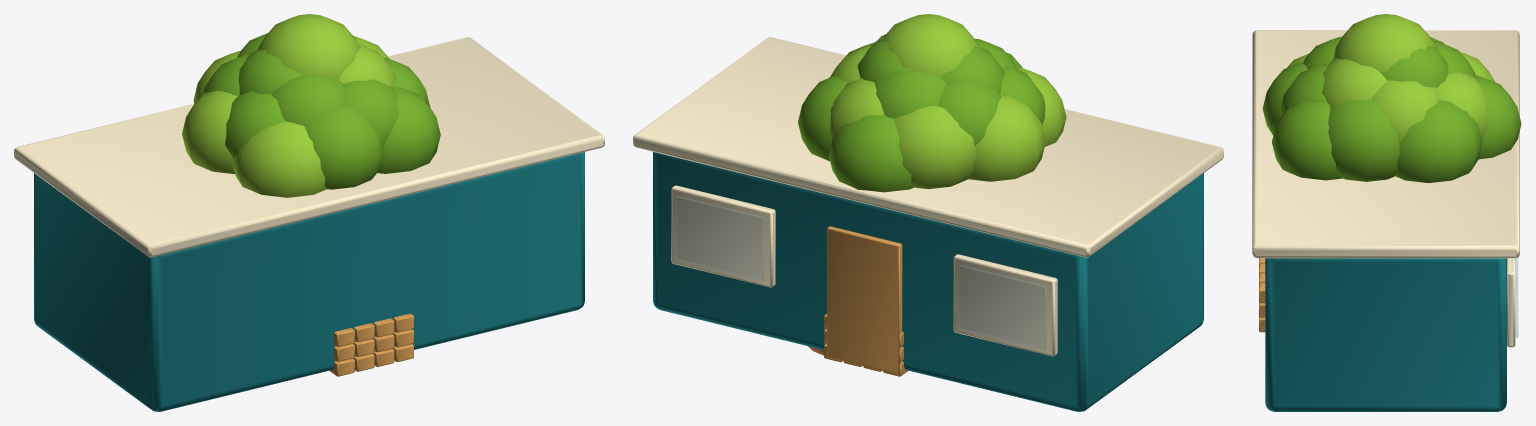
The model's file is environment.glb.
The picture shows the model from 3 angles, left to right: view 1: azimuth 30°, elevation 25°; view 2: azimuth 150°, elevation 25°; view 3: azimuth 270°, elevation 25°; orthographic projection. The views are drawn at different scales.
Parts seen in each view (by area): view 1: site office, roof, foliage lobe.001, foliage lobe, timber; view 2: site office, roof, foliage lobe, foliage lobe.001, window, door, timber; view 3: site office, roof, foliage lobe.001, foliage lobe, timber.
Part boxes in pixels (bbox=[...]): site office: bbox=[34, 152, 584, 411]; roof: bbox=[14, 37, 604, 257]; foliage lobe.001: bbox=[203, 33, 440, 189]; foliage lobe: bbox=[182, 14, 395, 197]; timber: bbox=[329, 313, 413, 376]; site office: bbox=[653, 152, 1203, 411]; roof: bbox=[633, 37, 1223, 356]; foliage lobe: bbox=[829, 14, 1066, 189]; foliage lobe.001: bbox=[798, 38, 1045, 192]; window: bbox=[676, 196, 1046, 349]; door: bbox=[827, 226, 902, 374]; timber: bbox=[824, 314, 908, 376]; site office: bbox=[1265, 258, 1506, 411]; roof: bbox=[1252, 30, 1519, 347]; foliage lobe.001: bbox=[1262, 36, 1521, 182]; foliage lobe: bbox=[1287, 14, 1494, 142]; timber: bbox=[1259, 258, 1265, 332].
Size of the model in its own units: 8.1 by 5.63 by 4.23.
